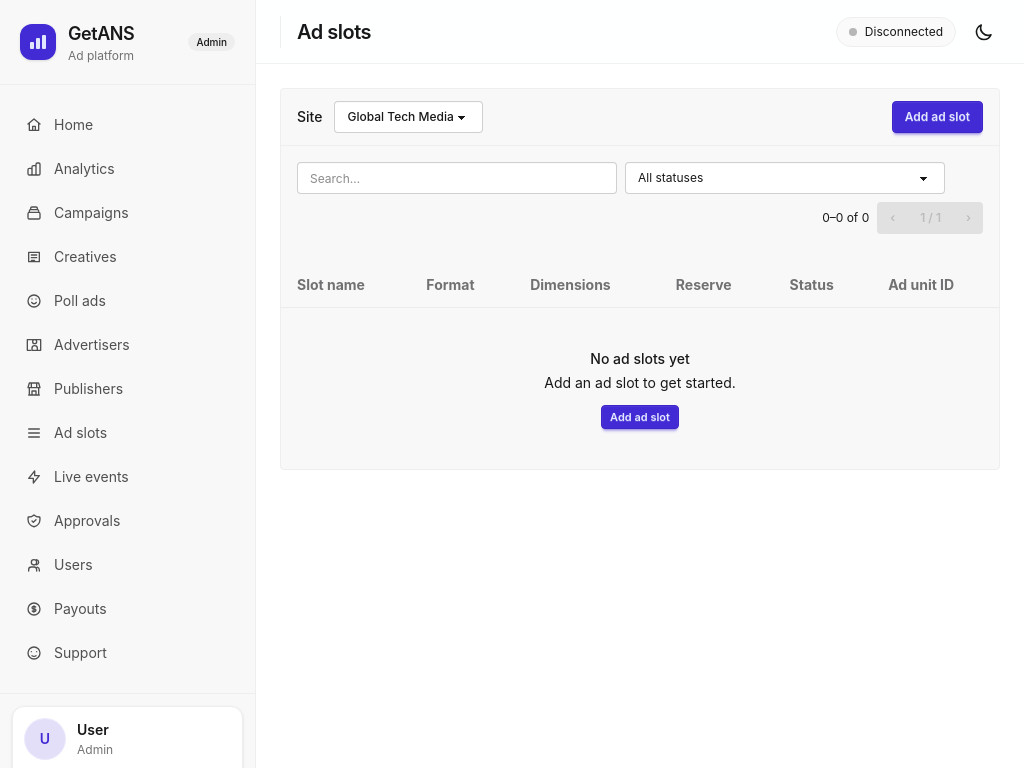
create ad slot modal › submits numbers, not strings, and refreshes the slot list
Select "Global Tech Media" in the dropdown named "Select site for ad slots" at {"x": 409, "y": 117}, box [334,101,483,133]
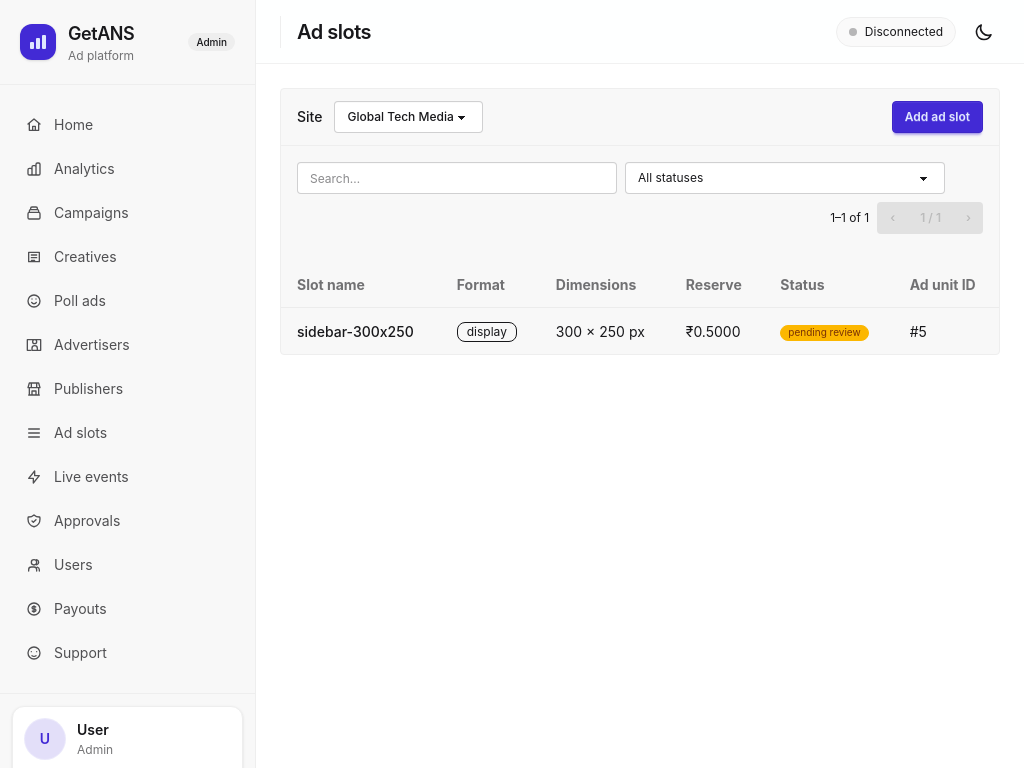
Click the button "Add ad slot" at {"x": 937, "y": 117}, box [892,101,983,133]
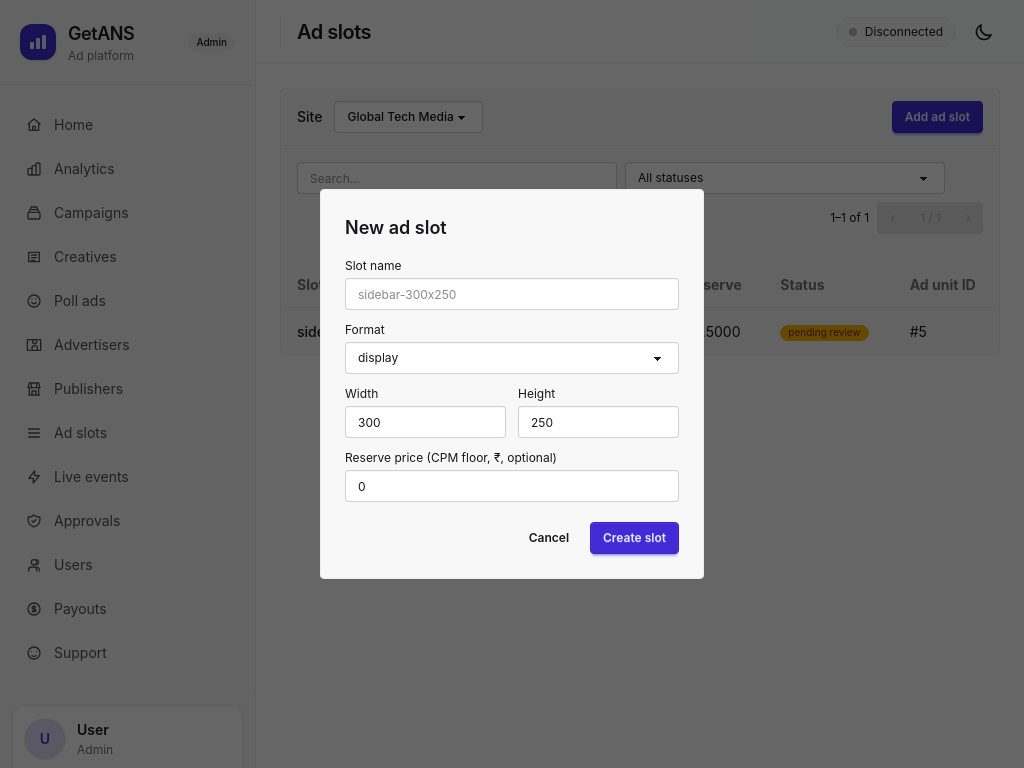
Type "leaderboard" into the field labelled "Slot name" at {"x": 512, "y": 294}, box [345,278,679,310]
Select "banner" in the dropdown labelled "Format" at {"x": 512, "y": 358}, box [345,342,679,374]
Replace the text in the number field labelled "Width" with "728" at {"x": 426, "y": 422}, box [345,406,506,438]
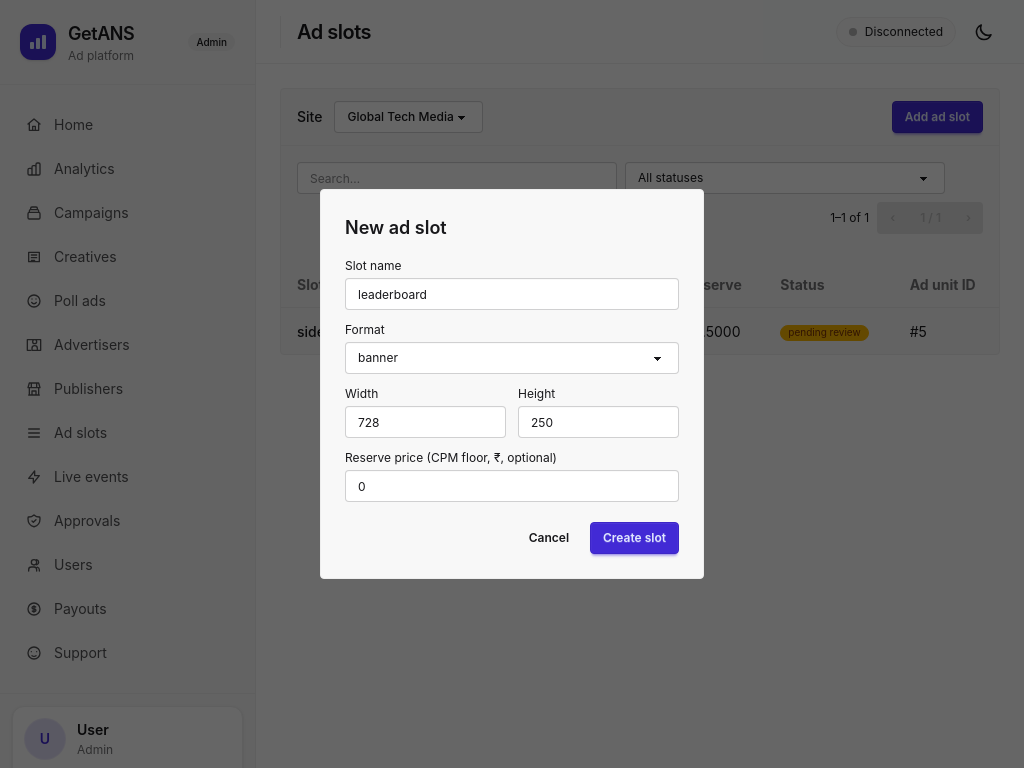
Replace the text in the number field labelled "Height" with "90" at {"x": 598, "y": 422}, box [518,406,679,438]
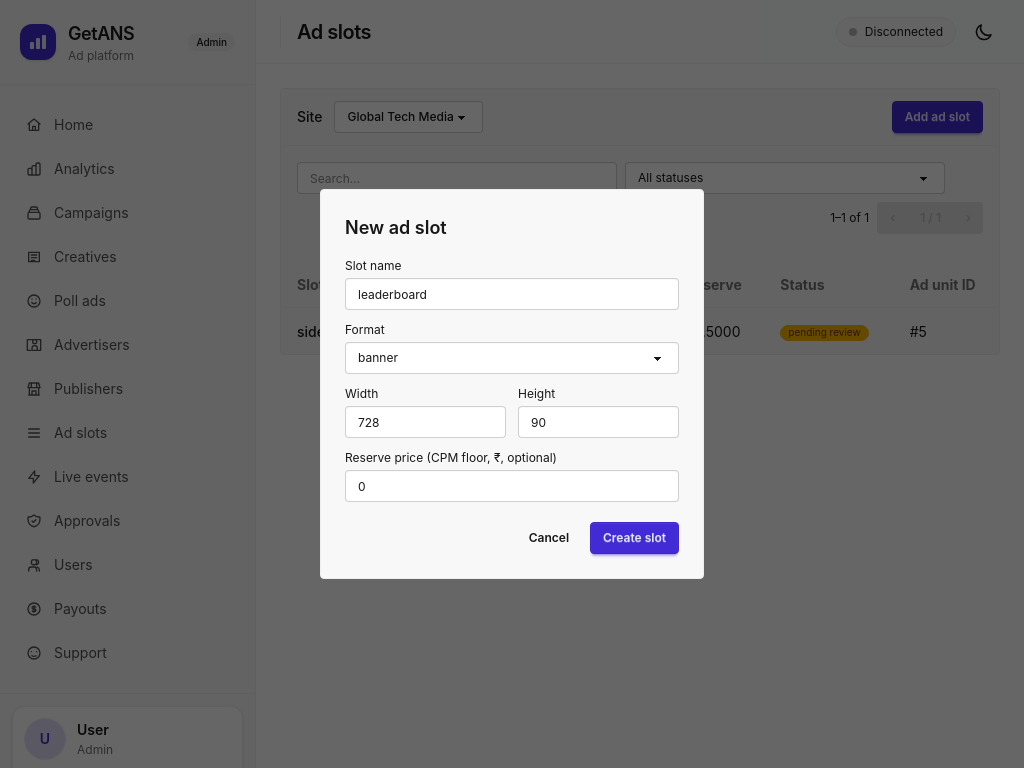
Replace the text in the number field labelled "Reserve price (CPM floor, ₹, optional)" with "0.25" at {"x": 512, "y": 486}, box [345,470,679,502]
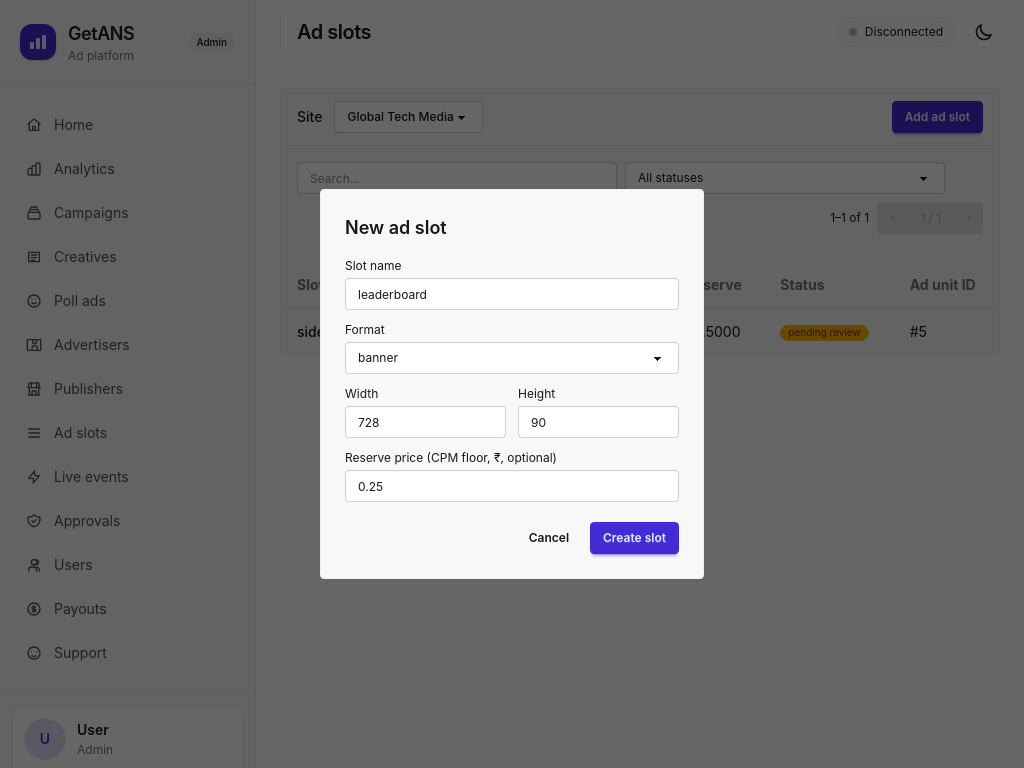
Submit the form named "Create slot", box [345,258,679,554]
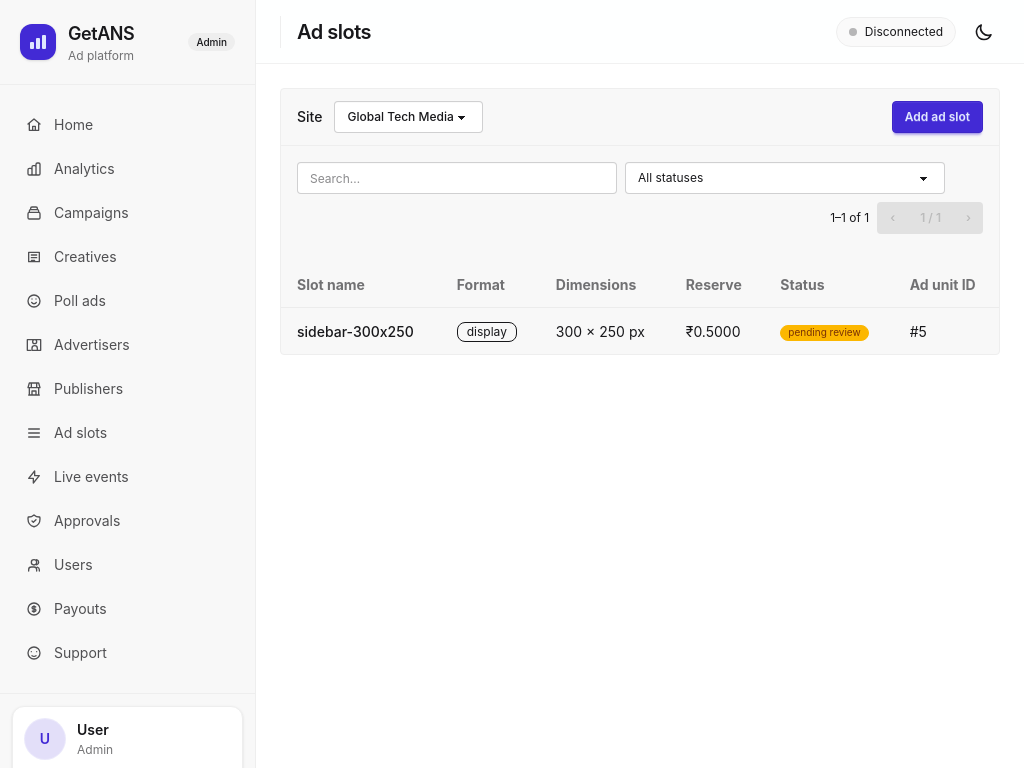
Result: the heading "New ad slot" is gone
